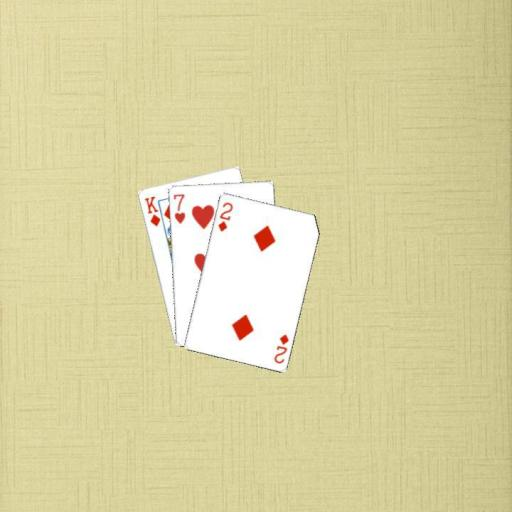2D: (215, 199, 234, 233), (271, 331, 290, 365)
7H: (170, 191, 186, 225)
KD: (142, 193, 162, 228)
